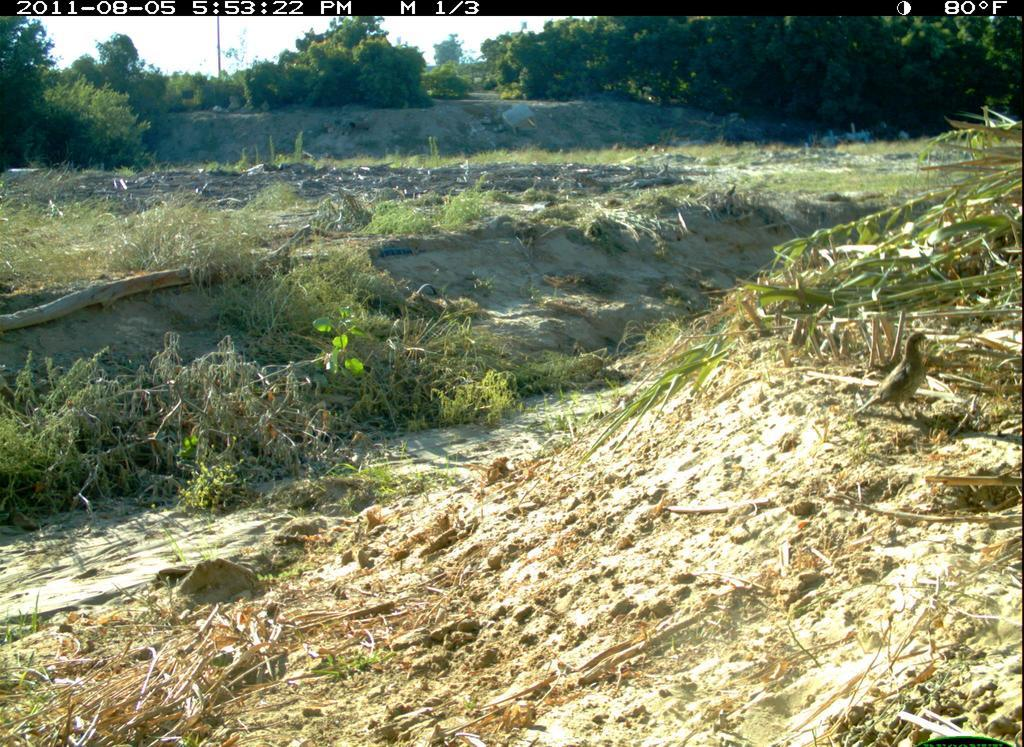bird: (854, 328, 934, 431)
